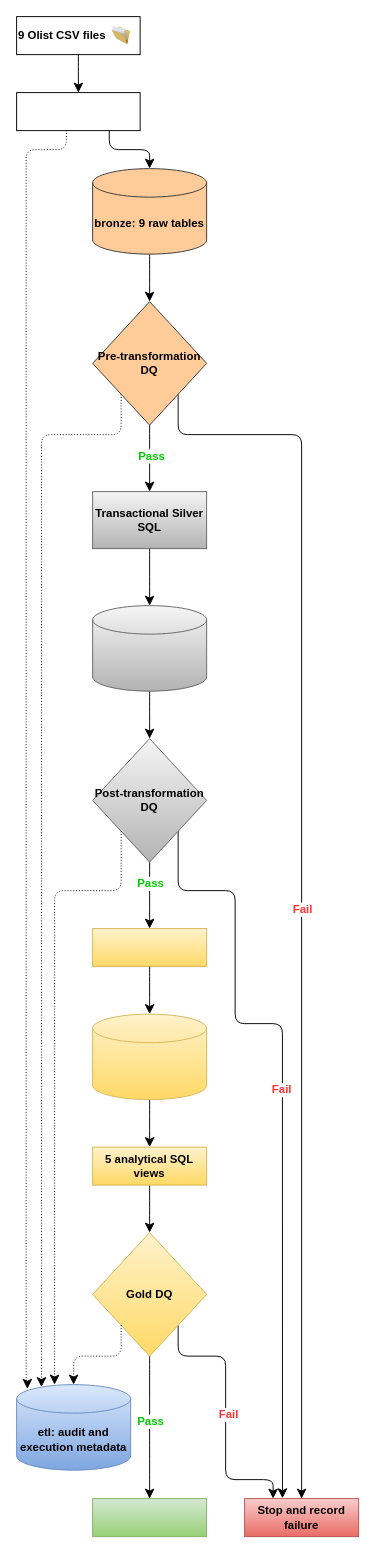
This 375x1553 diagram has some shape labels left out. The shapes that lost their labels are listed below. From the top down, each one's centre as x and y in pixels, then its label:
At (x=78, y=111): "Python psycopg COPY".
At (x=149, y=648): "silver: 9 typed tables".
At (x=149, y=947): "Transactional Gold SQL".
At (x=149, y=1056): "gold: 3 dimensions + 1 fact".
At (x=149, y=1517): "Analytics-ready data".
